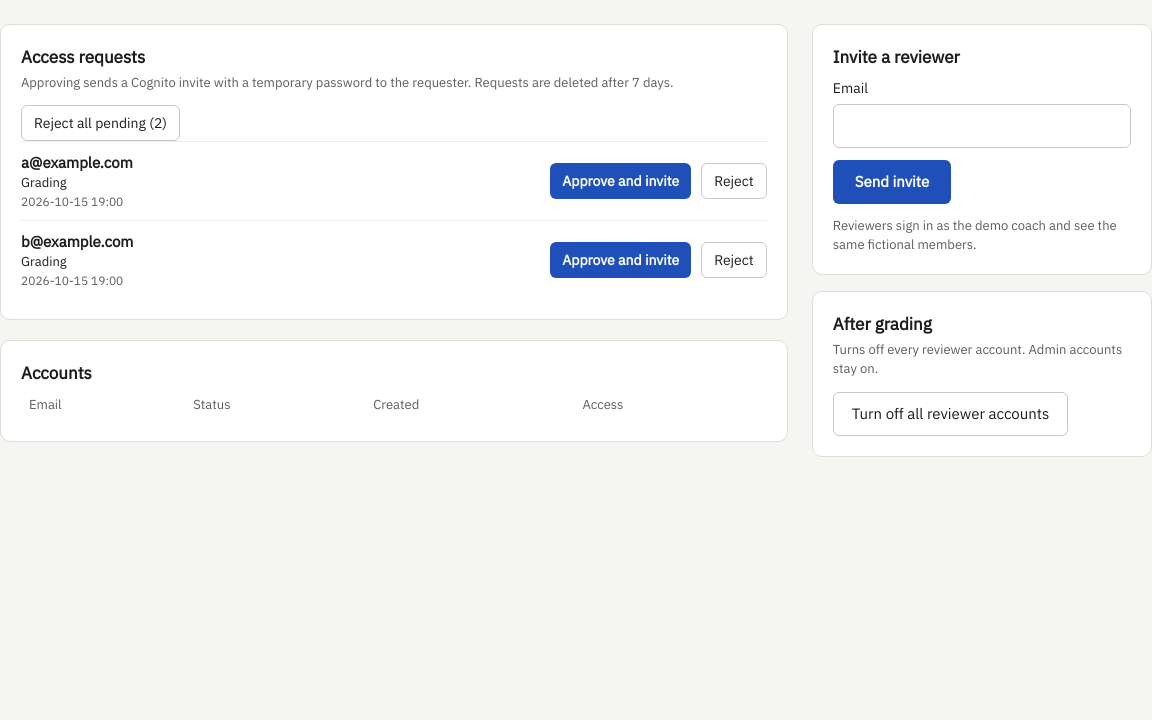
Test: AdminPage › rejects every pending request after a confirm
Step 1. Click the button "Reject all pending (2)" → (100, 124), box [21,106,180,142]
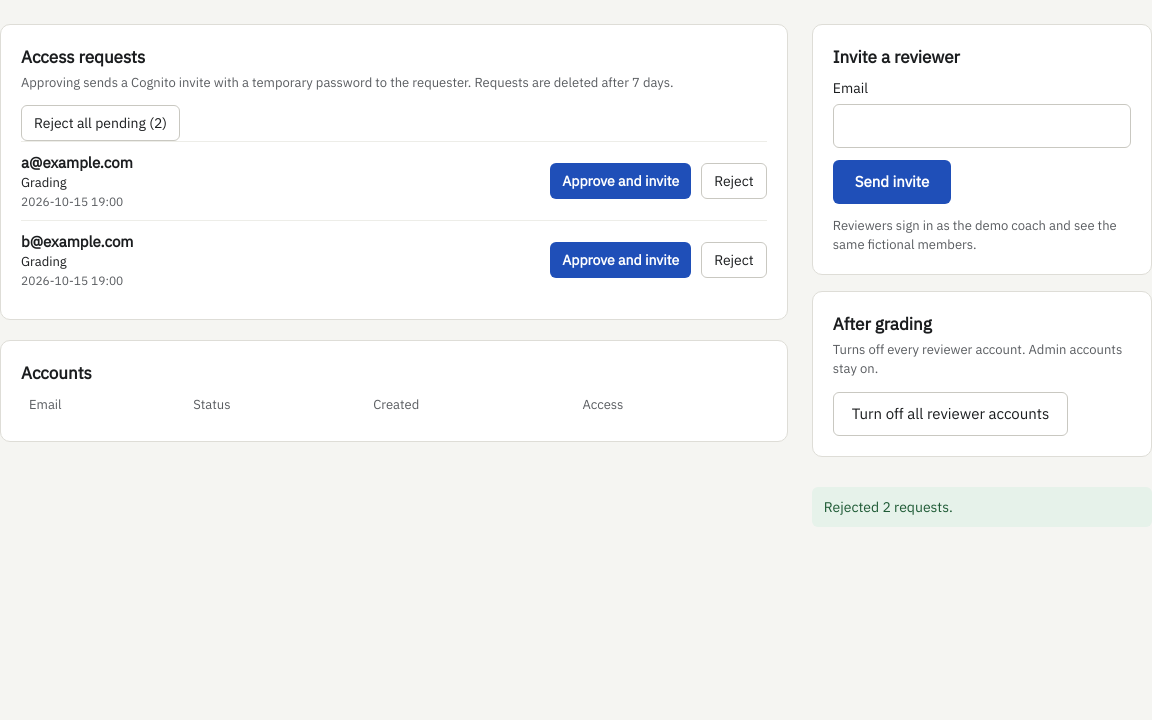
Now the text "Rejected 2 requests." is shown, box [812,487,1151,527]
